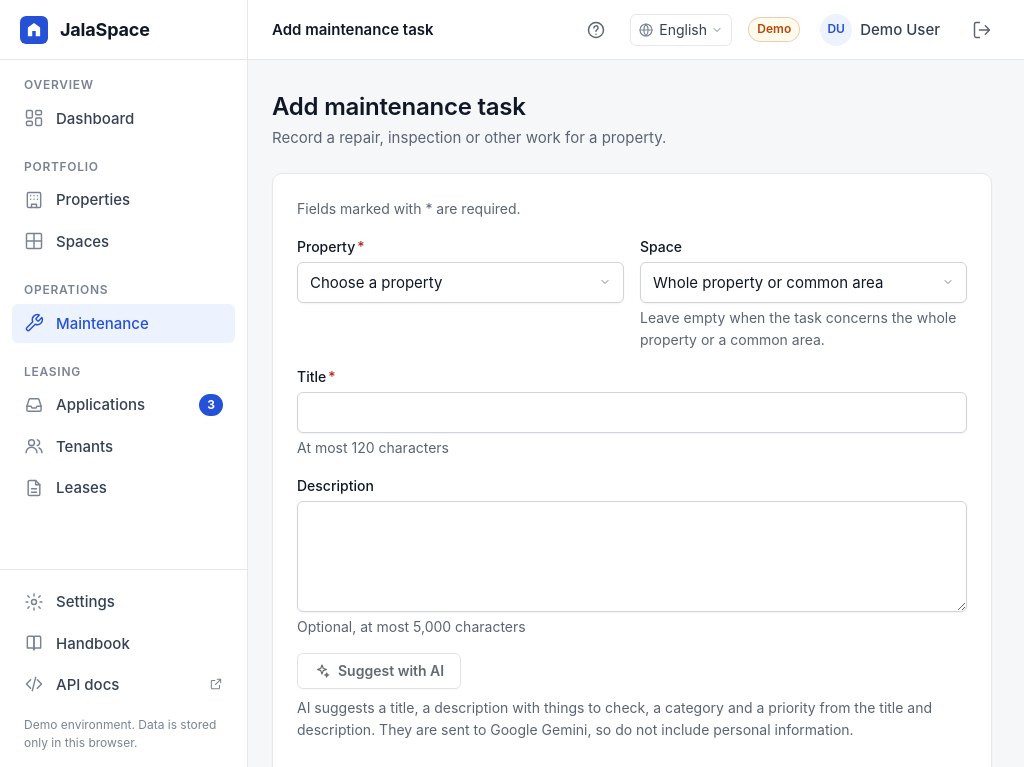
Test: AI maintenance suggestions › explains the rate limit and keeps the form usable
This screenshot has width=1024, height=767.
In the text box labelled "Description": (632, 556) [297,501,967,612], type "Leak"
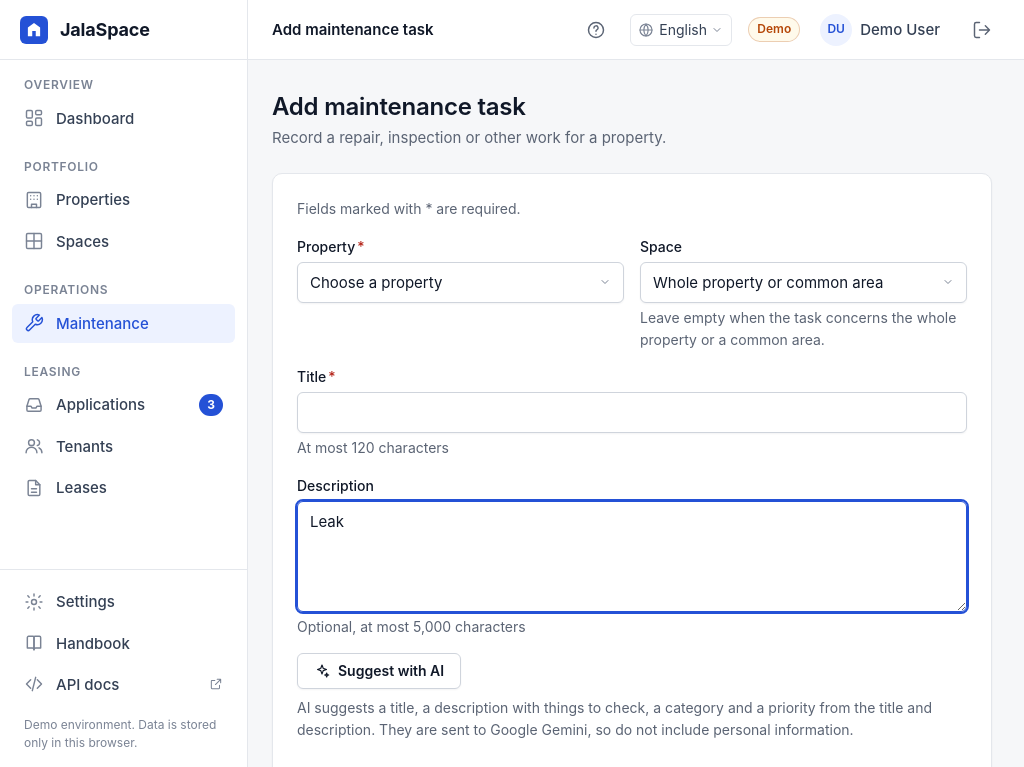
Click the button "Suggest with AI": (379, 671) [297,653,461,689]
(page scrolled)
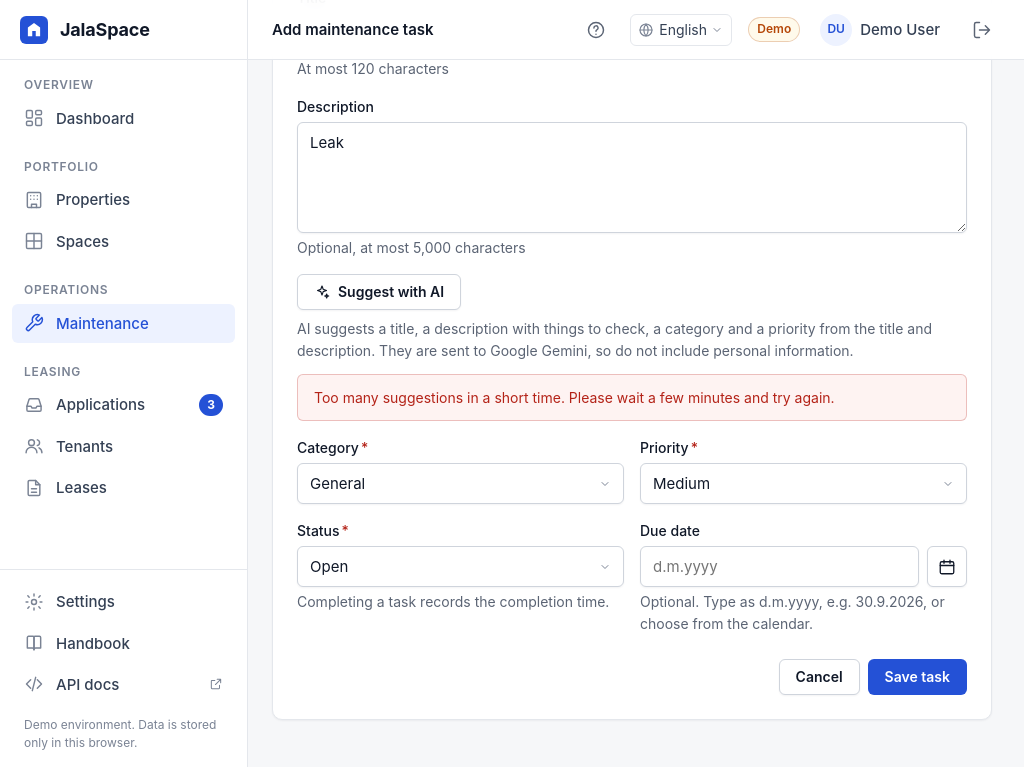
Expected: the button "Save task" is enabled, [868,659,967,695]
Expected: the button "Suggest with AI" is enabled, [297,274,461,310]
Expected: the text "Too many suggestions in a short time. Please wait a few minutes and try again." is shown, [297,374,967,421]
